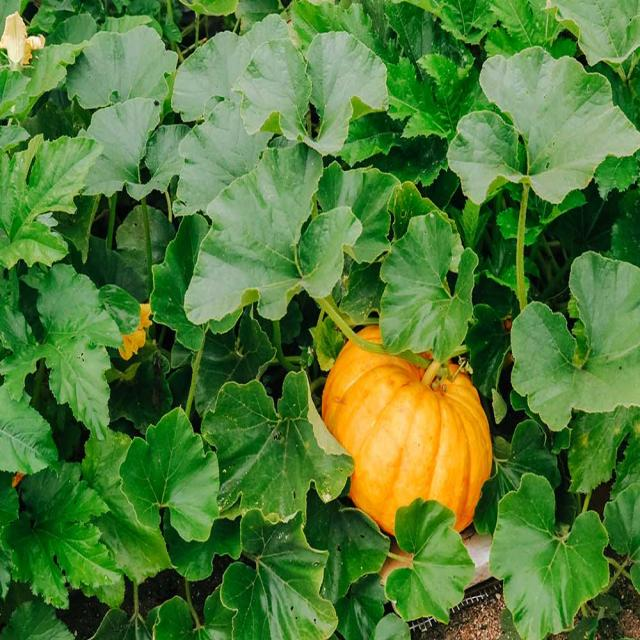pumpkin: (321, 341, 492, 533), (359, 325, 380, 342)
